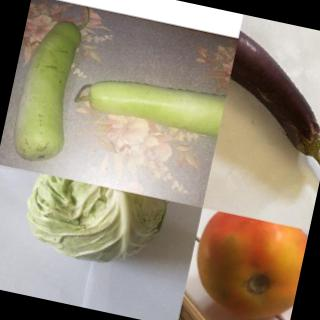Tomat: (185, 208, 309, 320)
